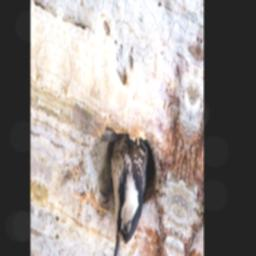Woodpecker: (97, 128, 153, 256)
